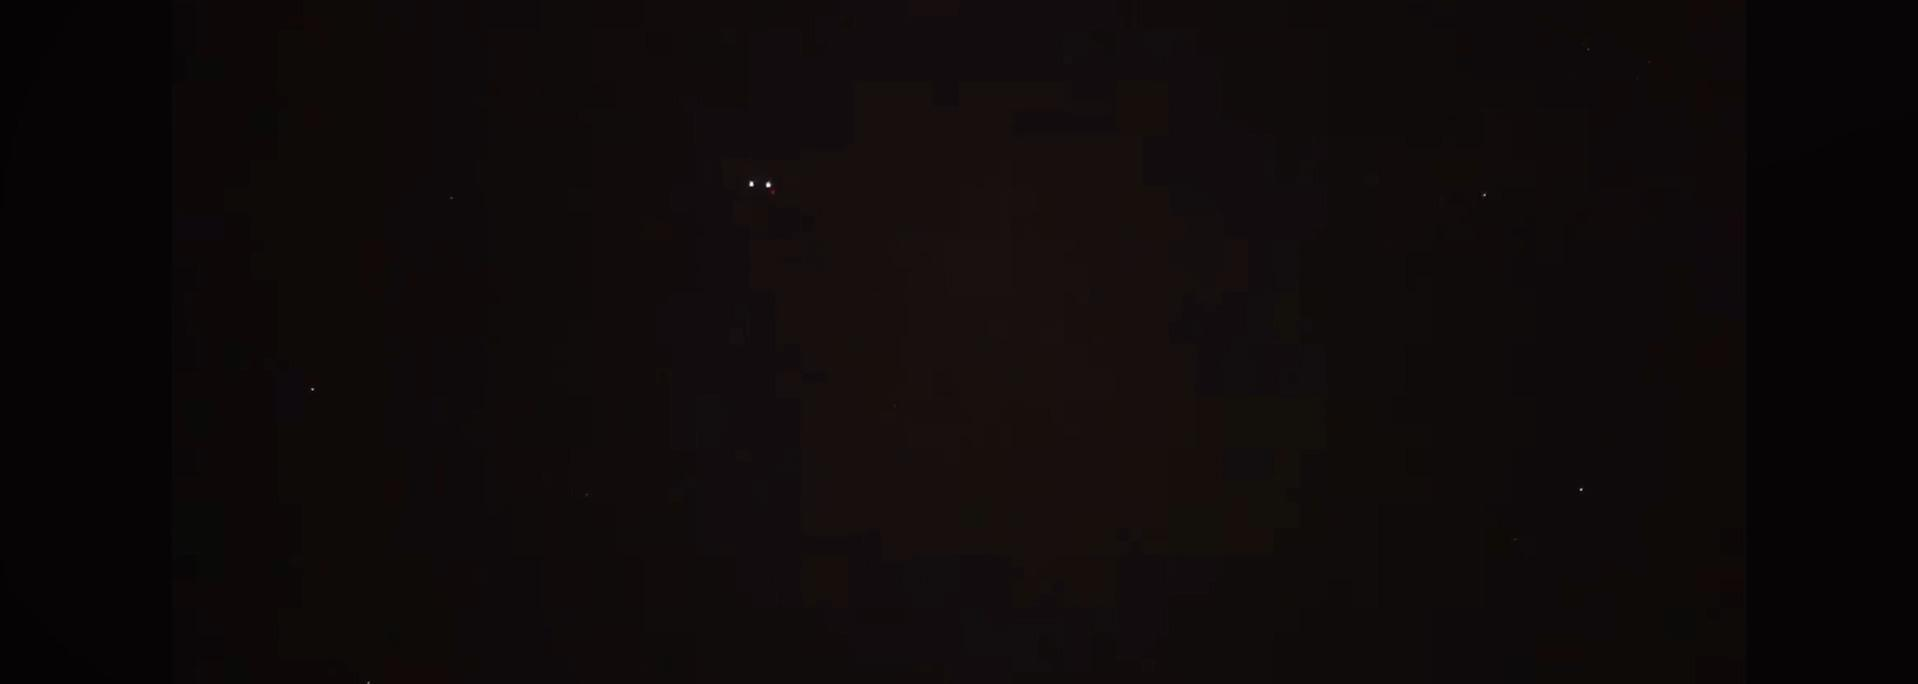Plane: (719, 169, 810, 203)
